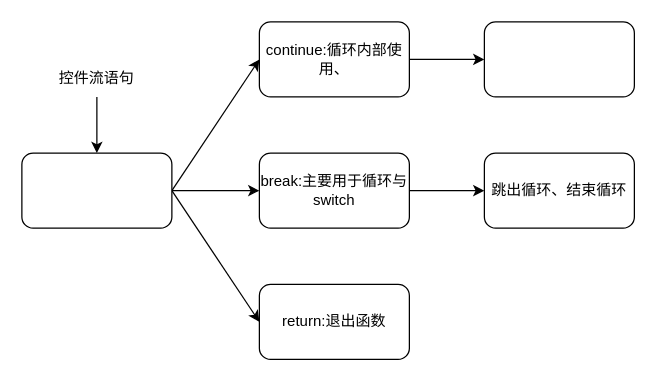
The diagram is 656 pixels wide and 381 high, and some of its shapes have lost their labels. Here are the shapes that lost their labels. From the top down, the centre of each, then its label:
the point at 558,59: 如果有循环则进入下一次迭代，否则循环结束
the point at 96,190: continue break return
